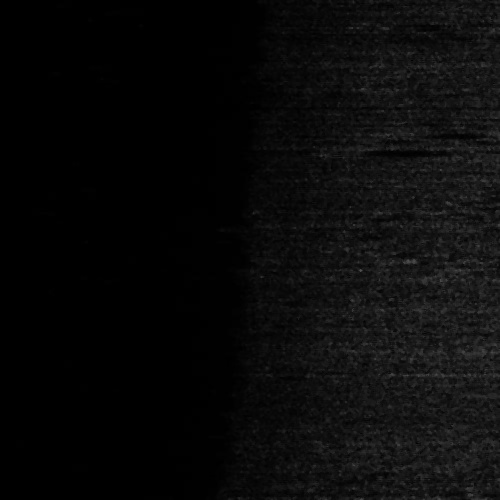object: (307, 149, 370, 154), (474, 348, 500, 353)
shadow: (339, 149, 471, 154)
